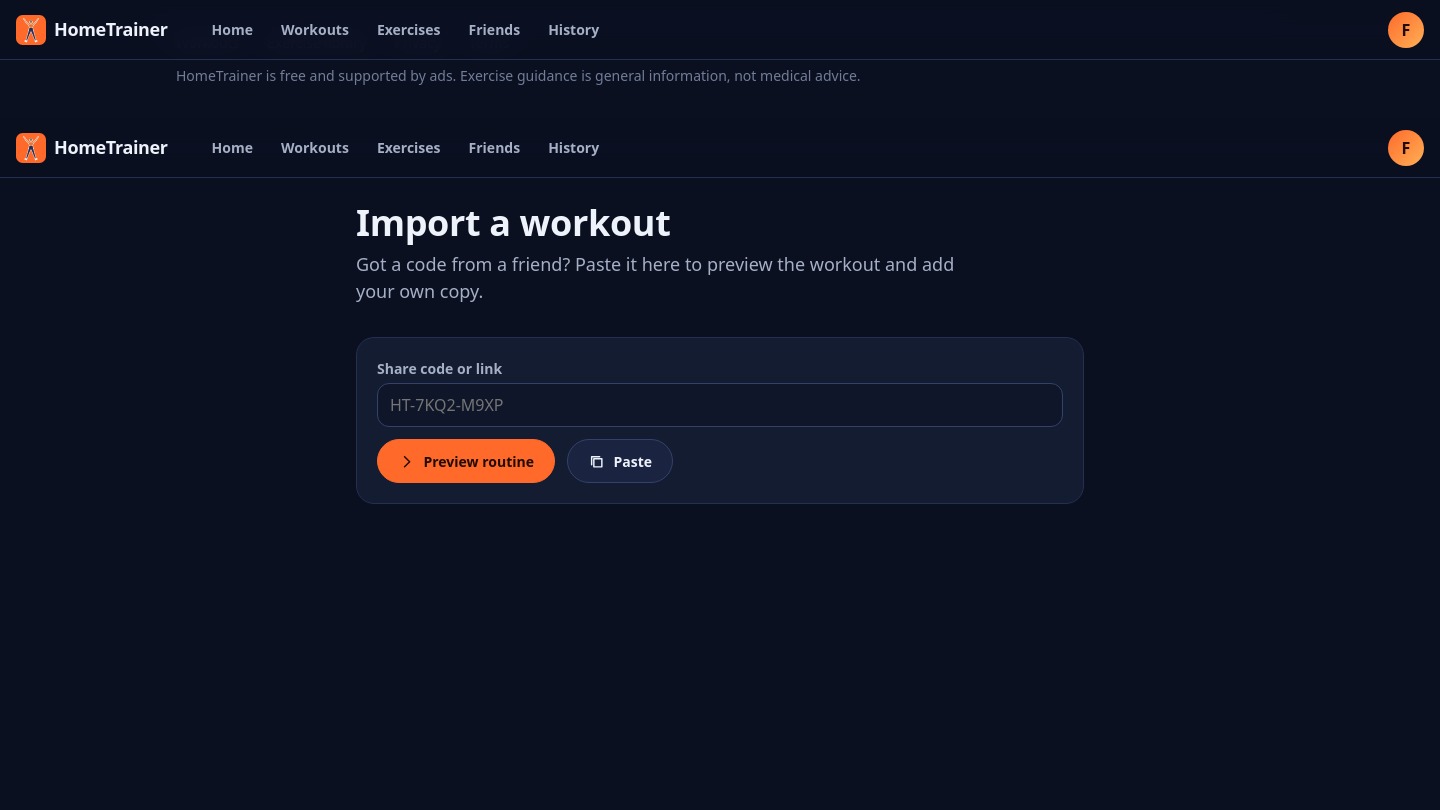
share code import › explains unknown or malformed codes
(page scrolled)
Type "hello" into the field labelled "Share code or link".
click(720, 405); type("hello")  # box [377,383,1063,427]
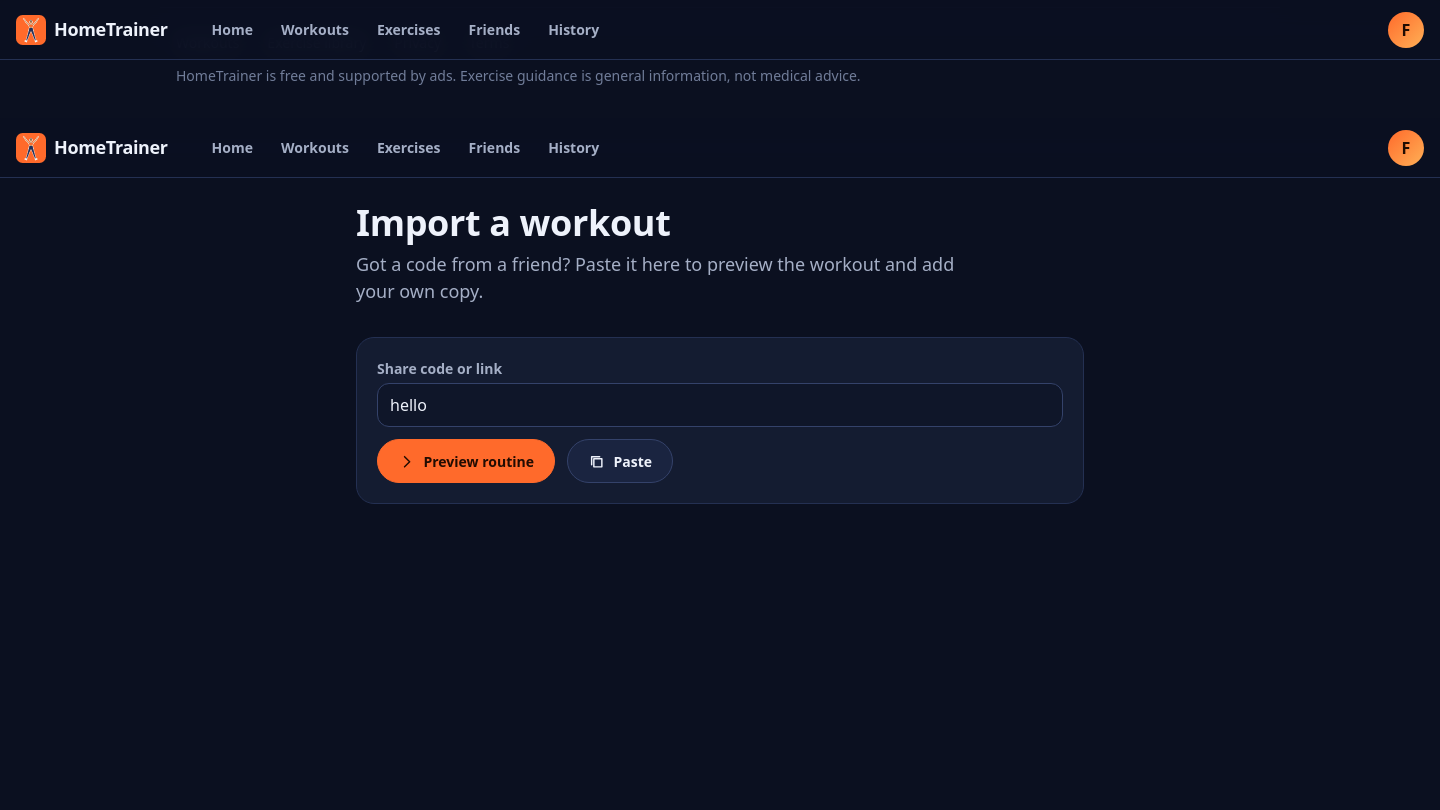
Click the button "Preview routine".
click(466, 461)  # box [377,439,555,483]
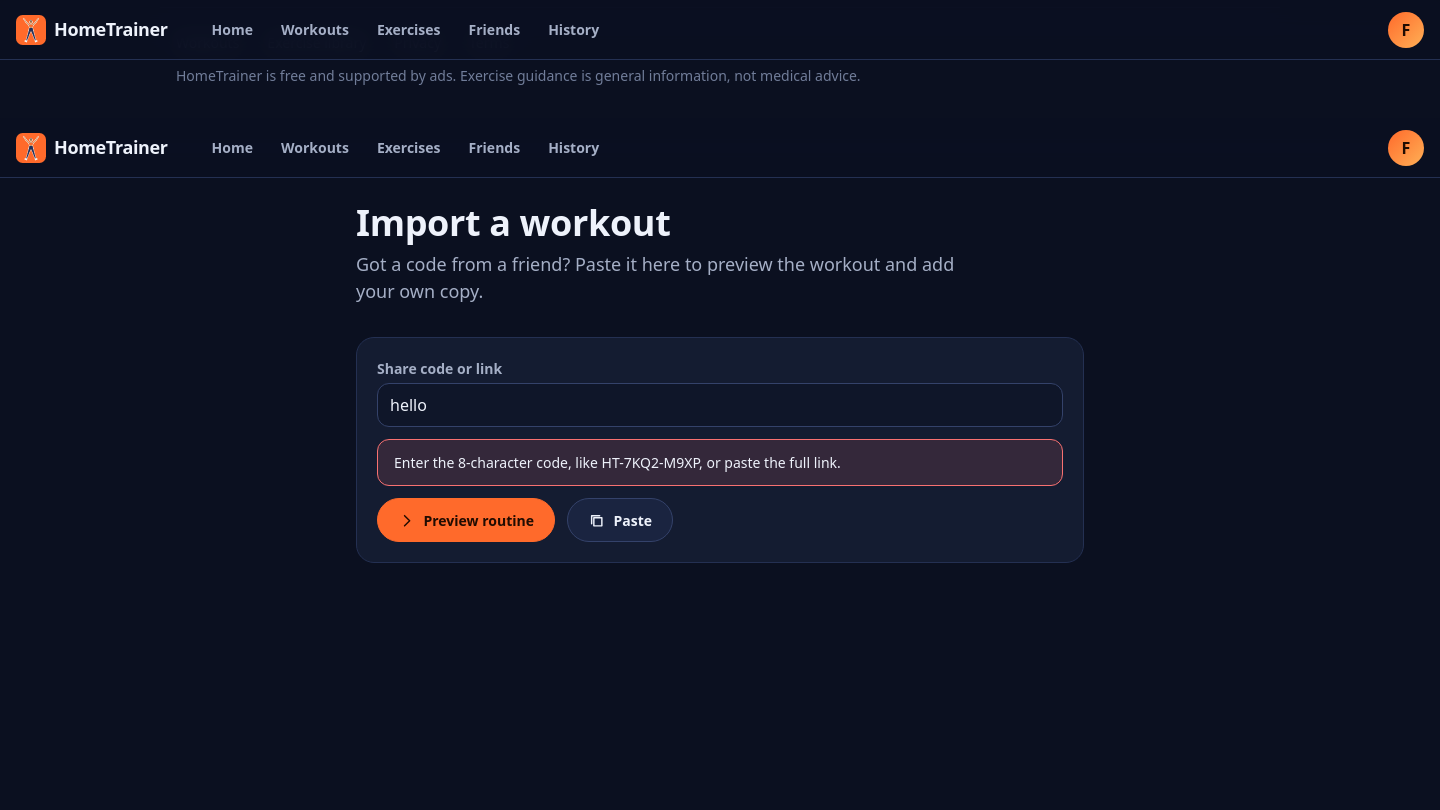
Now the message shows "8-character code", box [394,453,841,472]
